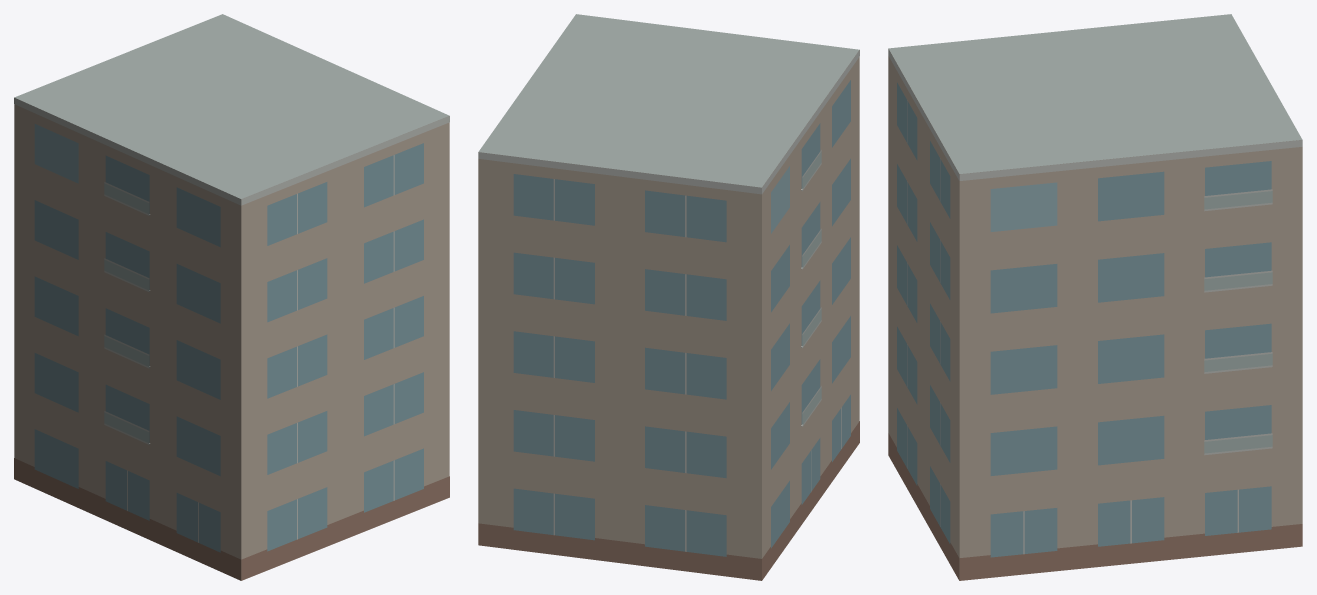
File: survey-upis-32696051.glb
The picture shows the model from 3 angles, left to right: view 1: azimuth 30°, elevation 25°; view 2: azimuth 150°, elevation 25°; view 3: azimuth 270°, elevation 25°; orthographic projection. The views are drawn at different scales.
Parts seen in each view (by area): view 1: survey-upis-32696051.tmp; view 2: survey-upis-32696051.tmp; view 3: survey-upis-32696051.tmp.
Part boxes in pixels (x1,y1,x2,y2): survey-upis-32696051.tmp: [14, 14, 449, 580]; survey-upis-32696051.tmp: [478, 14, 859, 580]; survey-upis-32696051.tmp: [888, 14, 1302, 580].
Bounding box in the file's own units: 12 × 14.2 × 13.12.
